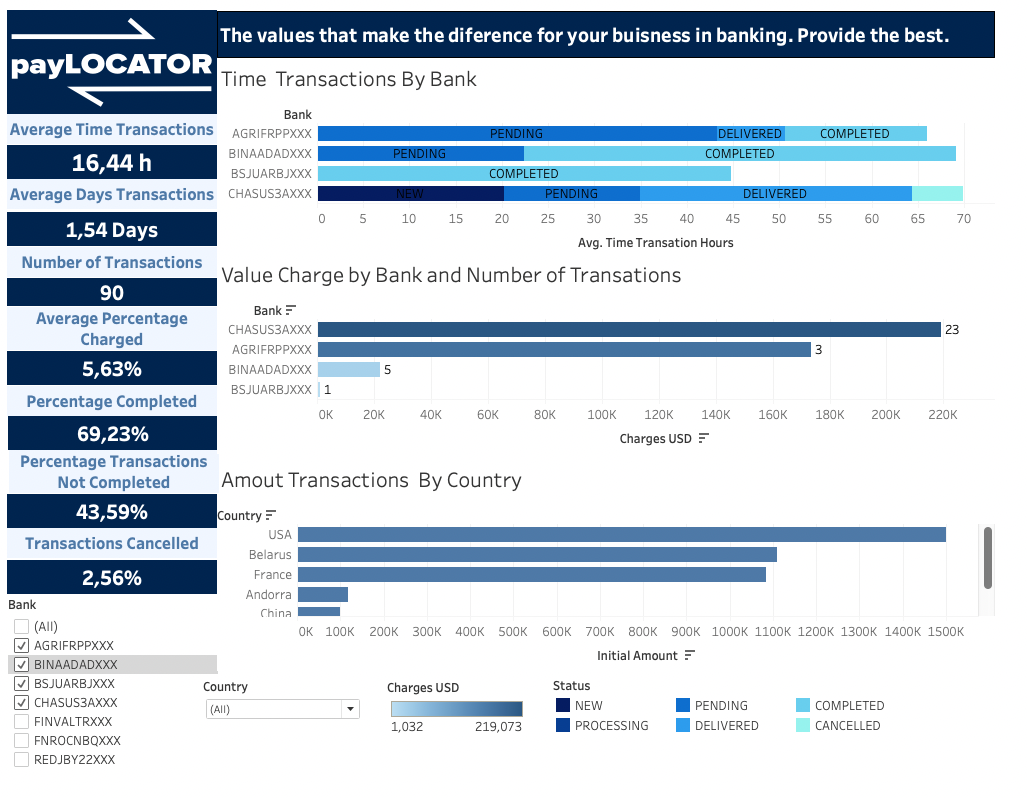

Layout of this report page (visuals, bound fields, positions):
{"tool":"tableau","page":{"name":"Dashboard 2","canvas":[1000,800],"ordinal":1},"visuals":[{"type":"image","param":"/Users/edgartome_1/IronHack/IronProjects/Project6/logo_white.svg","box":[9,7,202,104]},{"type":"text","box":[212,8,788,47]},{"type":"worksheet","title":"Time  Transations By Bank","mark":"Automatic","rows":["Bank"],"cols":["Time Transation Hours"],"box":[214,57,785,210]},{"type":"text","box":[9,111,202,30]},{"type":"worksheet","title":"Avegare Time Transation","mark":"Automatic","box":[9,142,202,34]},{"type":"text","box":[9,176,202,30]},{"type":"worksheet","title":"Avegare Days Transation","mark":"Automatic","box":[9,209,202,34]},{"type":"text","box":[9,244,202,30]},{"type":"worksheet","title":"Charge By Bank Number Transations","mark":"Automatic","rows":["Bank"],"cols":["Charges USD"],"box":[214,253,785,210]},{"type":"worksheet","title":"Number of Transations","mark":"Automatic","box":[9,275,202,34]},{"type":"text","box":[9,304,202,43]},{"type":"worksheet","title":"Average of Percentage Charged","mark":"Automatic","box":[9,348,202,34]},{"type":"text","box":[9,383,202,30]},{"type":"worksheet","title":"Percentage Completed","mark":"Automatic","box":[10,413,202,34]},{"type":"text","box":[11,447,202,43]},{"type":"worksheet","title":"Amout Transations  By Country","mark":"Automatic","rows":["Country"],"cols":["Initial Amount"],"box":[216,458,785,210]},{"type":"worksheet","title":"Percentage Transations not Completed","mark":"Automatic","box":[9,491,202,34]},{"type":"text","box":[9,525,202,30]},{"type":"worksheet","title":"Transactions Cancelled","mark":"Automatic","box":[9,557,202,34]},{"type":"filter","title":"Time  Transations By Bank","param":"[federated.0srqluo1g26l7d138jx4m15isy8j].[none:Bank:nk]","box":[10,593,195,175]},{"type":"legend","title":"Time  Transations By Bank","param":"[federated.0srqluo1g26l7d138jx4m15isy8j].[none:Status:nk]","box":[555,674,440,70]},{"type":"filter","title":"Amout Transations  By Country","param":"[federated.0srqluo1g26l7d138jx4m15isy8j].[none:Country:nk]","box":[205,675,160,44]},{"type":"legend","title":"Charge By Bank Number Transations","param":"[federated.0srqluo1g26l7d138jx4m15isy8j].[sum:Charges USD:qk]","box":[389,676,140,76]}]}

Visuals, with their boxes in screenshot pixels (x1, y1, x2, y2), scaled from the page's 1000x800 canvas onto the 1027x798 screenshot:
image: x1=9 y1=7 x2=217 y2=111
text: x1=218 y1=8 x2=1026 y2=55
"Time  Transations By Bank" worksheet: x1=220 y1=57 x2=1026 y2=266
text: x1=9 y1=111 x2=217 y2=141
"Avegare Time Transation" worksheet: x1=9 y1=142 x2=217 y2=176
text: x1=9 y1=176 x2=217 y2=205
"Avegare Days Transation" worksheet: x1=9 y1=208 x2=217 y2=242
text: x1=9 y1=243 x2=217 y2=273
"Charge By Bank Number Transations" worksheet: x1=220 y1=252 x2=1026 y2=462
"Number of Transations" worksheet: x1=9 y1=274 x2=217 y2=308
text: x1=9 y1=303 x2=217 y2=346
"Average of Percentage Charged" worksheet: x1=9 y1=347 x2=217 y2=381
text: x1=9 y1=382 x2=217 y2=412
"Percentage Completed" worksheet: x1=10 y1=412 x2=218 y2=446
text: x1=11 y1=446 x2=219 y2=489
"Amout Transations  By Country" worksheet: x1=222 y1=457 x2=1026 y2=666
"Percentage Transations not Completed" worksheet: x1=9 y1=490 x2=217 y2=524
text: x1=9 y1=524 x2=217 y2=554
"Transactions Cancelled" worksheet: x1=9 y1=556 x2=217 y2=590
"Time  Transations By Bank" filter: x1=10 y1=592 x2=211 y2=766
"Time  Transations By Bank" legend: x1=570 y1=672 x2=1022 y2=742
"Amout Transations  By Country" filter: x1=211 y1=673 x2=375 y2=717
"Charge By Bank Number Transations" legend: x1=400 y1=674 x2=543 y2=750
